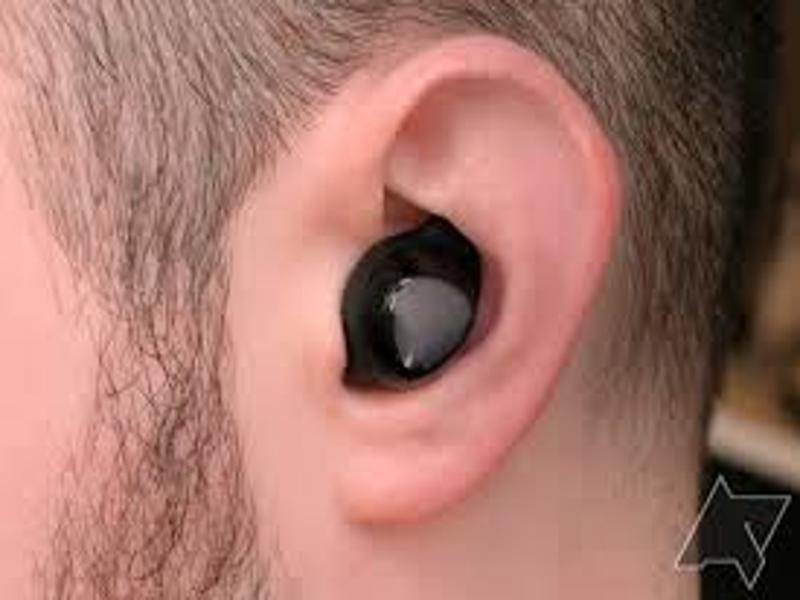headphone: (339, 208, 481, 386)
